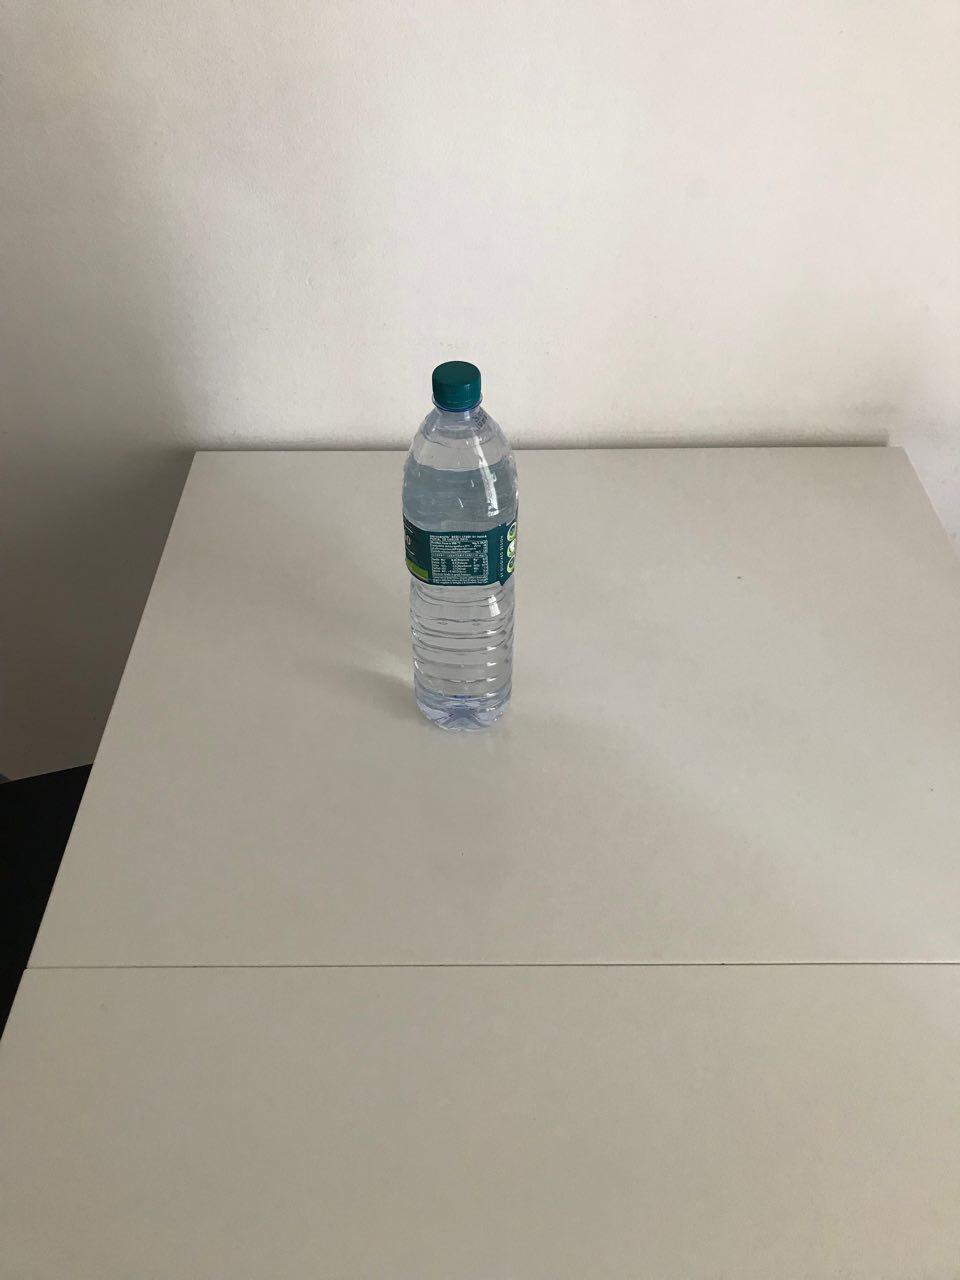san_bernardo: (399, 358, 519, 735)
